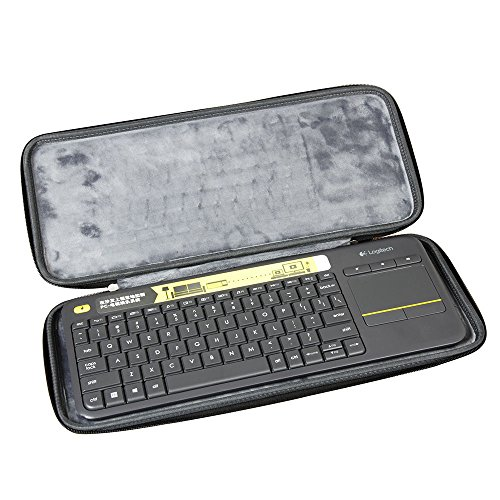logitech-keyboard-k400: (46, 230, 444, 424)
